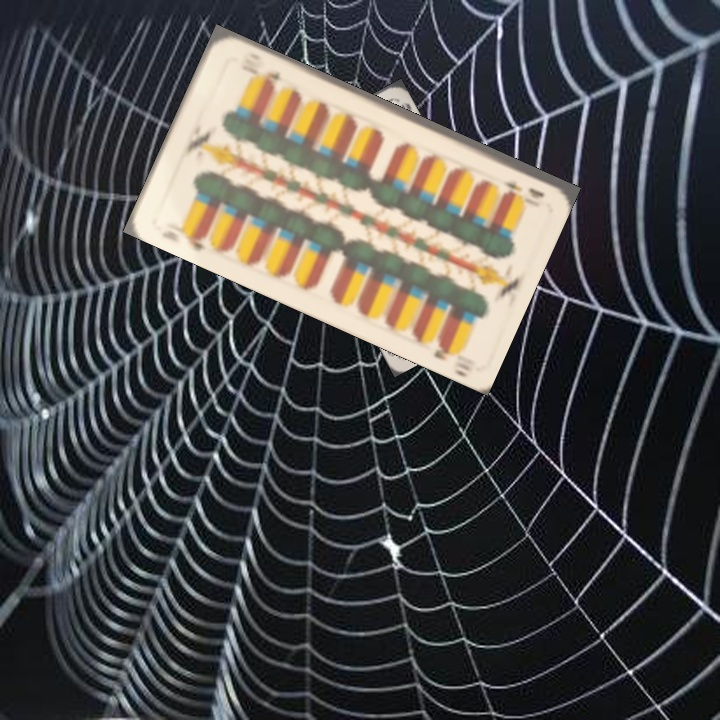E10: (498, 176, 548, 201), (179, 230, 210, 254)
